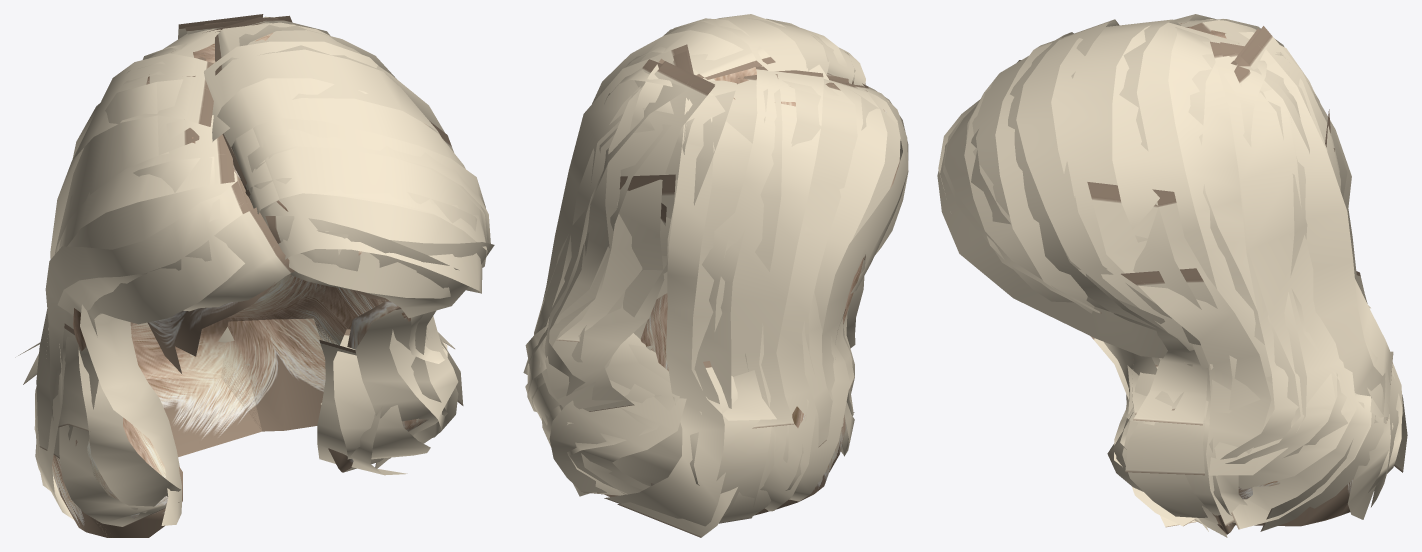
File: hair_006.obj
3 renders of one model, left to right at view 1: azimuth 30°, elevation 25°; view 2: azimuth 150°, elevation 25°; view 3: azimuth 270°, elevation 25°, orthographic. The views are drawn at different scales.
Bounding box in the file's own units: 22.6 × 29.32 × 26.88.
